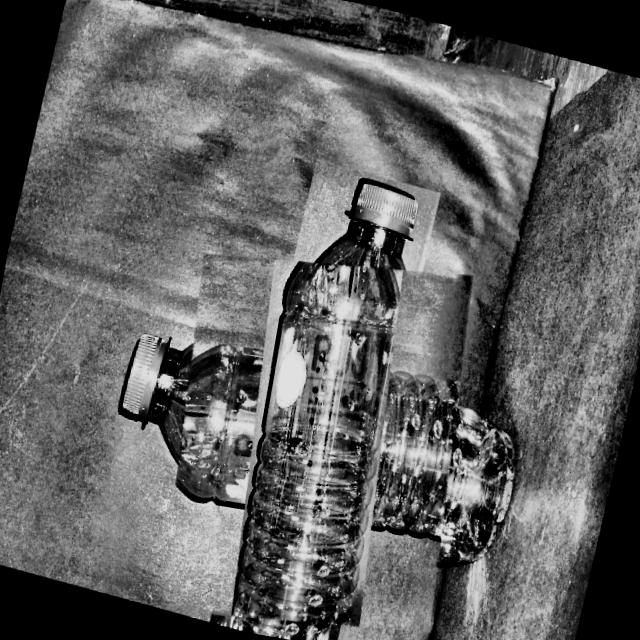Plastic-Bottle: (131, 213, 503, 640)
